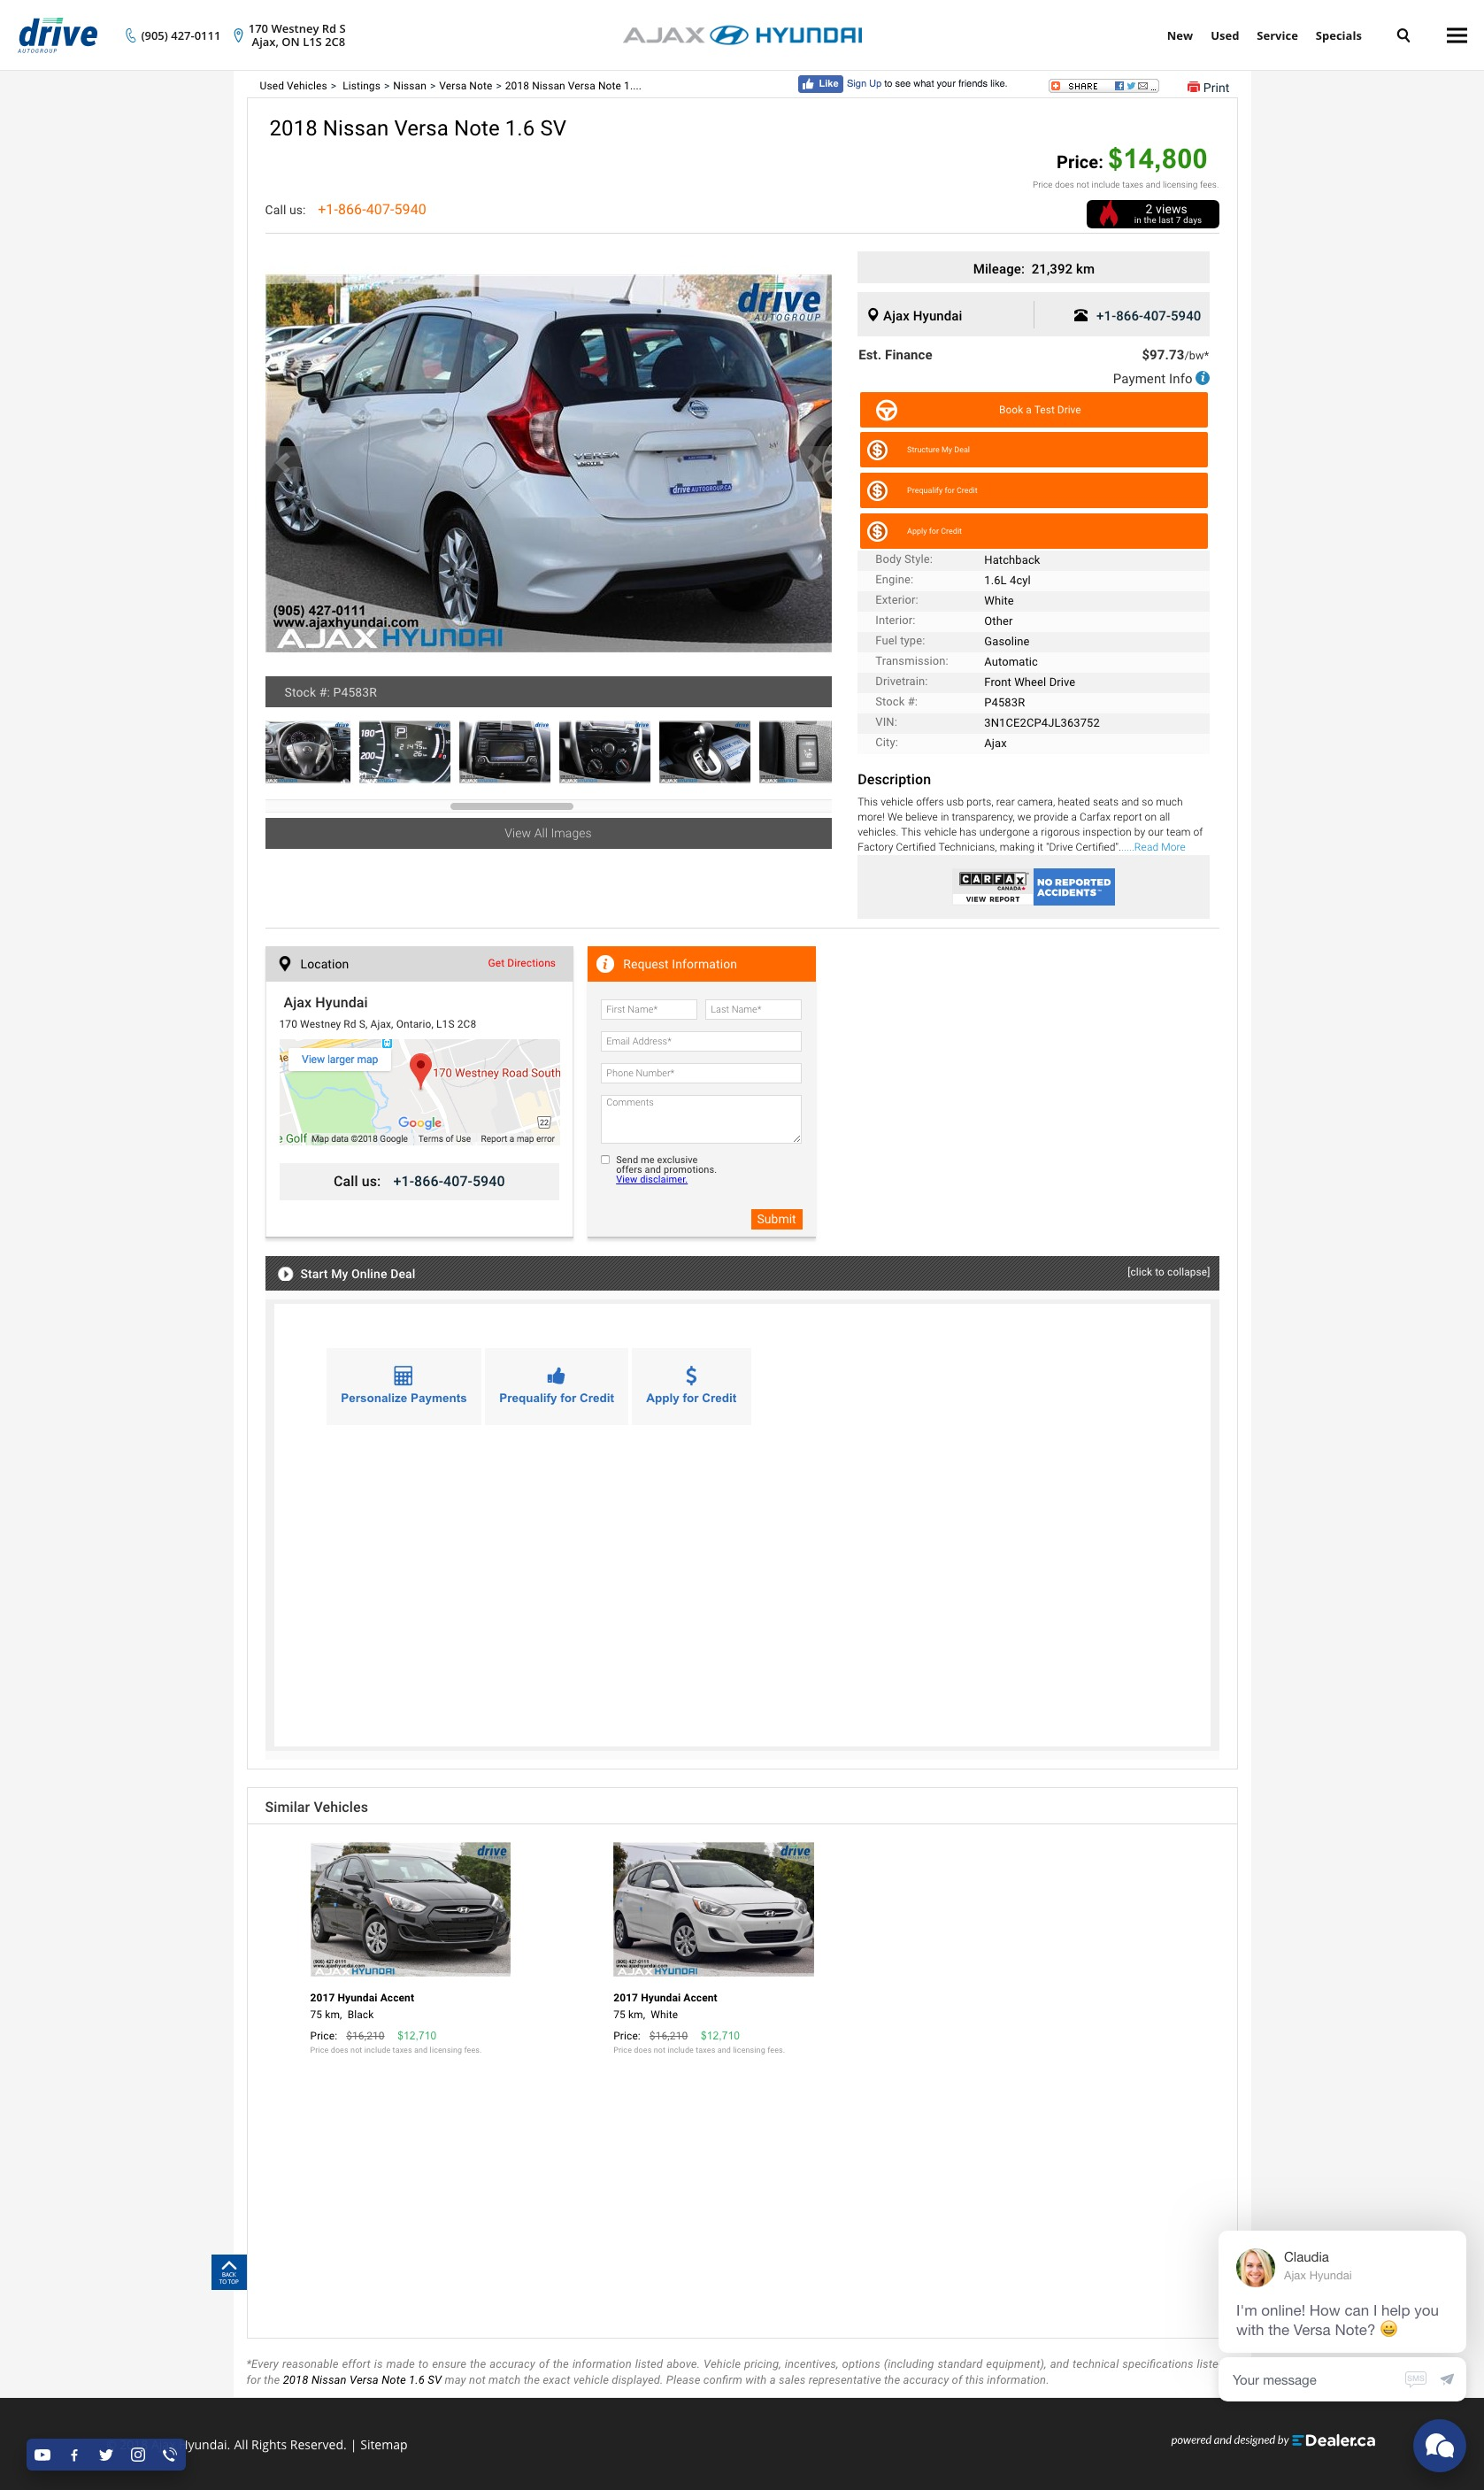car: (795, 445, 834, 482)
